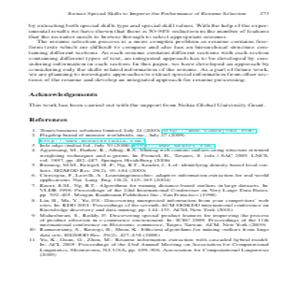text: (28, 11, 269, 256)
